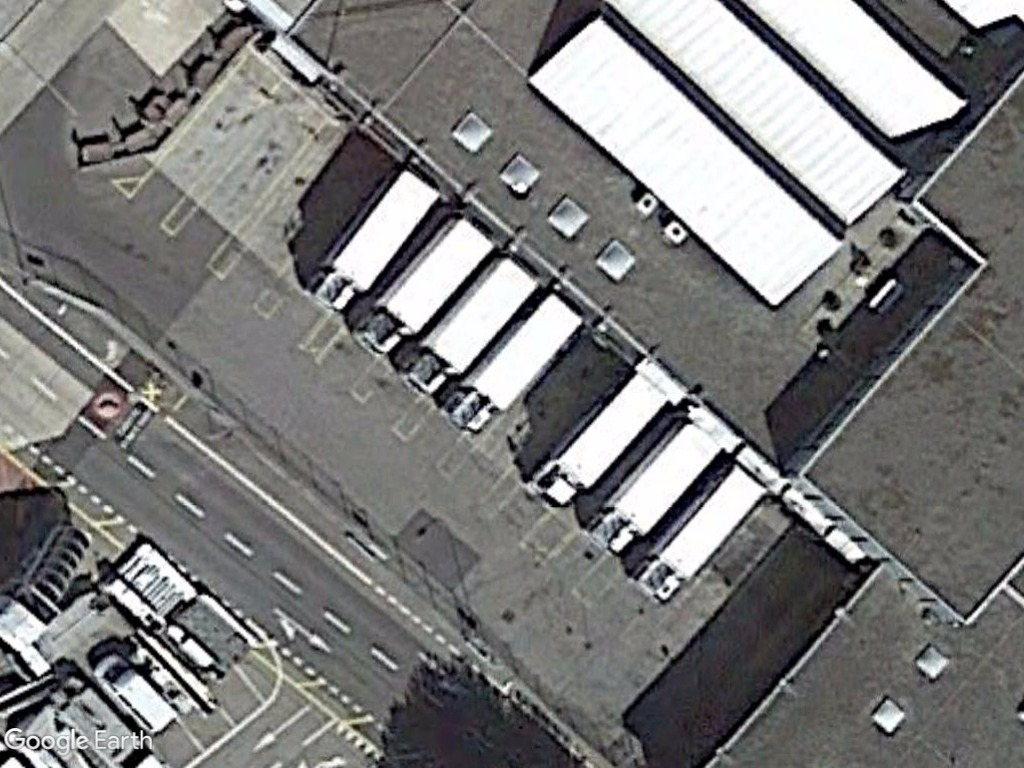truck: (351, 211, 501, 361), (437, 292, 589, 438), (397, 250, 542, 401), (305, 161, 445, 316), (623, 464, 772, 608), (525, 372, 676, 513), (582, 419, 724, 556)
van: (88, 653, 180, 739)
